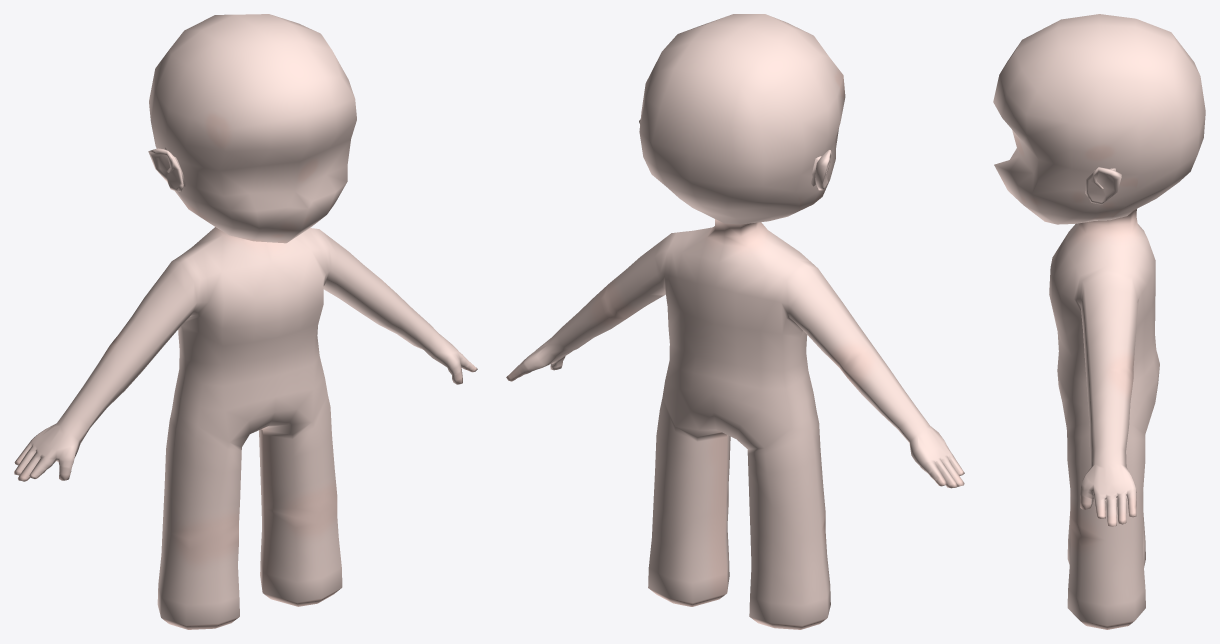
File: __MOCK__Char_Thief_ThreeHeads.fbx
3 renders of one model, left to right at view 1: azimuth 30°, elevation 25°; view 2: azimuth 150°, elevation 25°; view 3: azimuth 270°, elevation 25°, orthographic. The views are drawn at different scales.
Parts seen in each view (by area): view 1: __MOCK__Char_Thief_ThreeHeads; view 2: __MOCK__Char_Thief_ThreeHeads; view 3: __MOCK__Char_Thief_ThreeHeads.
Part boxes in pixels (bbox=[...]): __MOCK__Char_Thief_ThreeHeads: bbox=[14, 14, 477, 629]; __MOCK__Char_Thief_ThreeHeads: bbox=[506, 14, 964, 629]; __MOCK__Char_Thief_ThreeHeads: bbox=[993, 14, 1205, 629].
Size of the model in its own units: 247 by 299 by 102.
Materials: 2 (2 with a texture image).
